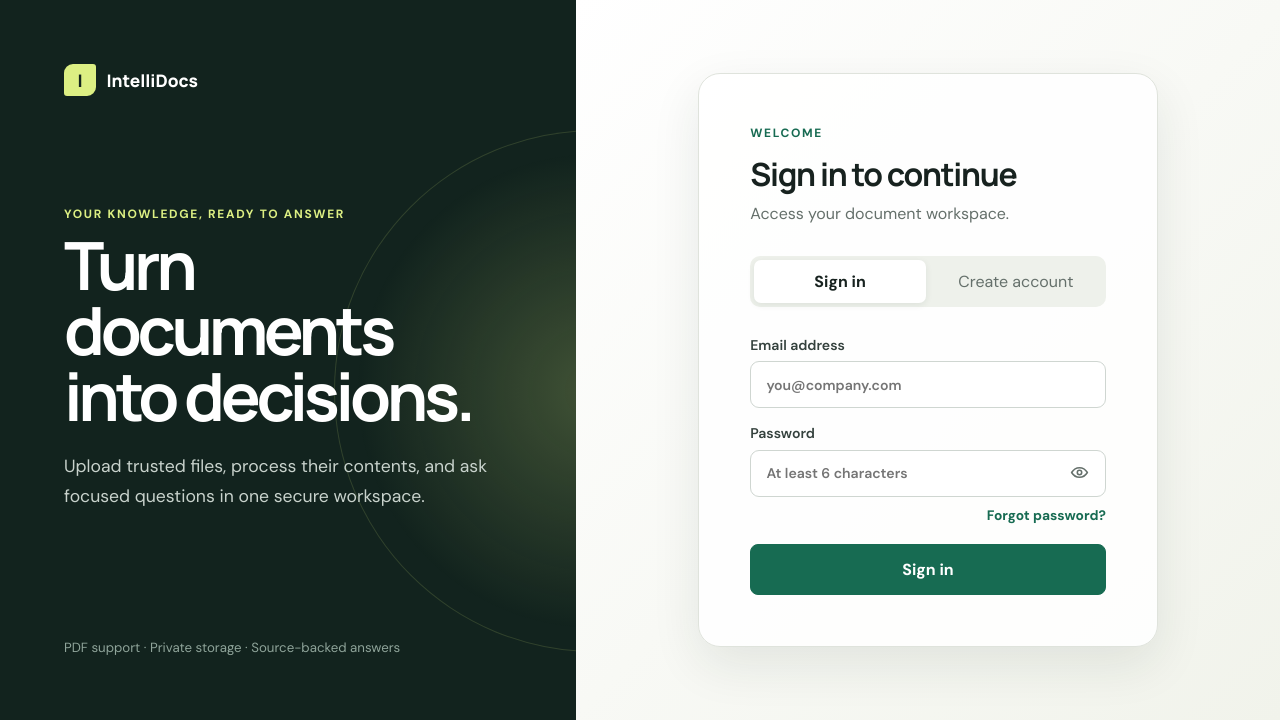
AuthPage › uses a privacy-safe message after sign-up
The image size is (1280, 720).
Click the button "Create account". click: click(1016, 282)
box: [930, 260, 1102, 303]
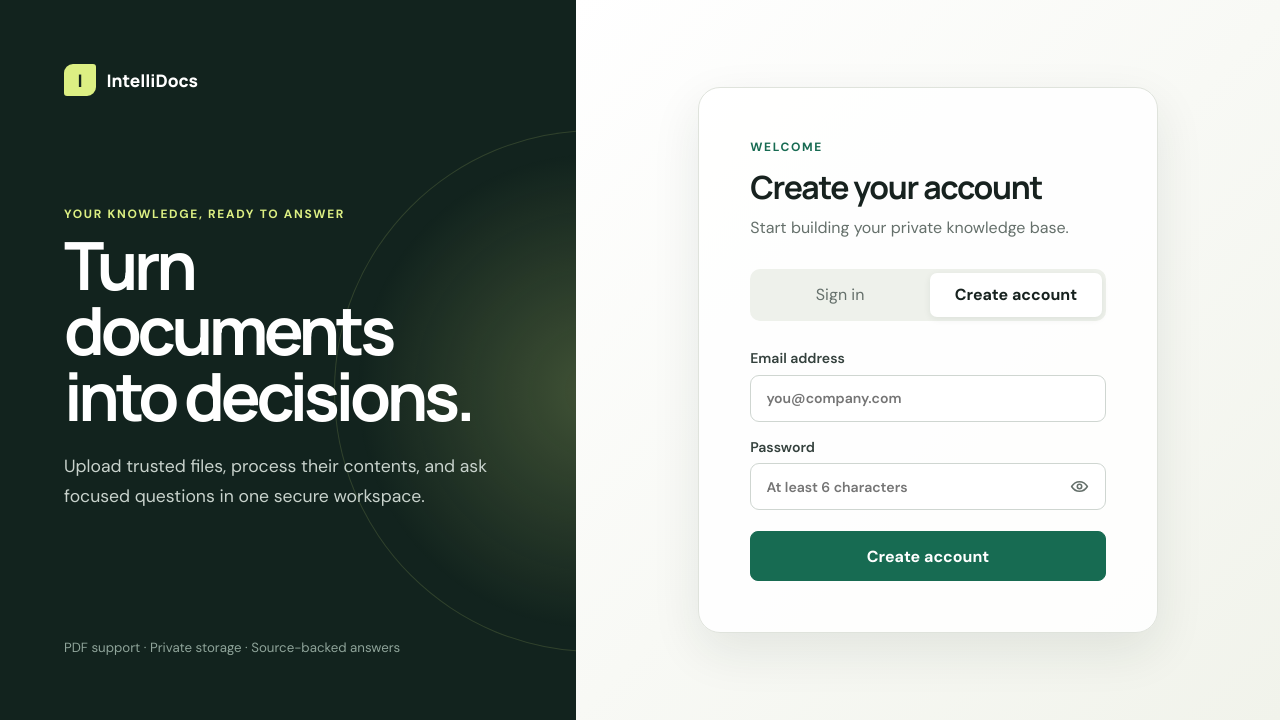
Type "person@example.com" into the field labelled "Email address". click: (928, 398)
box: [750, 375, 1106, 422]
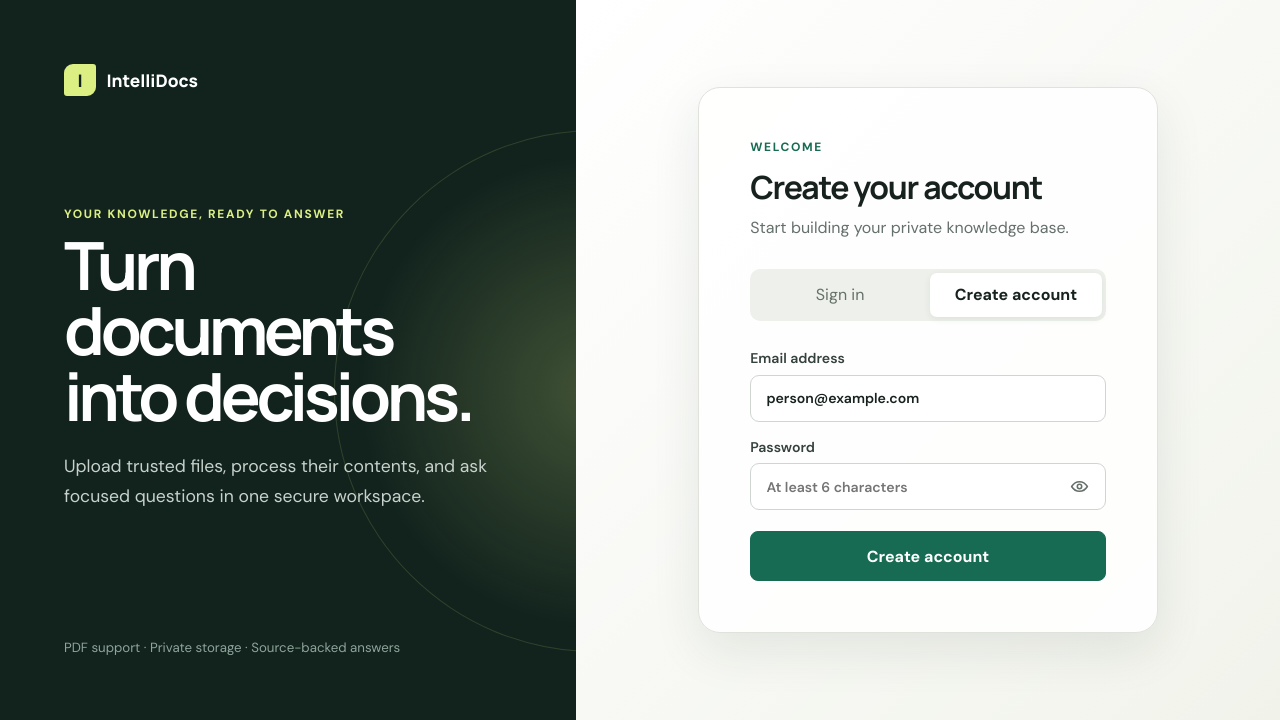
Type "password123" into the password field labelled "Password". click: (928, 487)
box: [750, 463, 1106, 510]
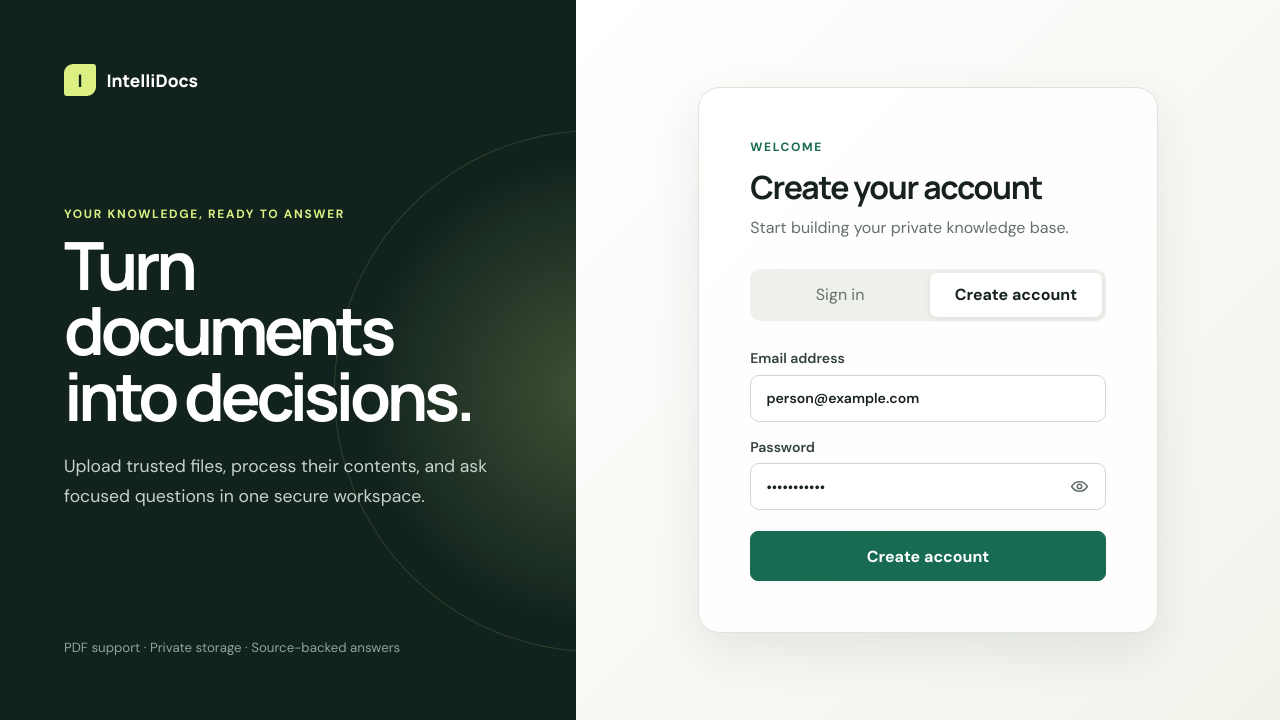
Click the button "Create account" below "Password". click: click(928, 556)
box: [750, 531, 1106, 581]
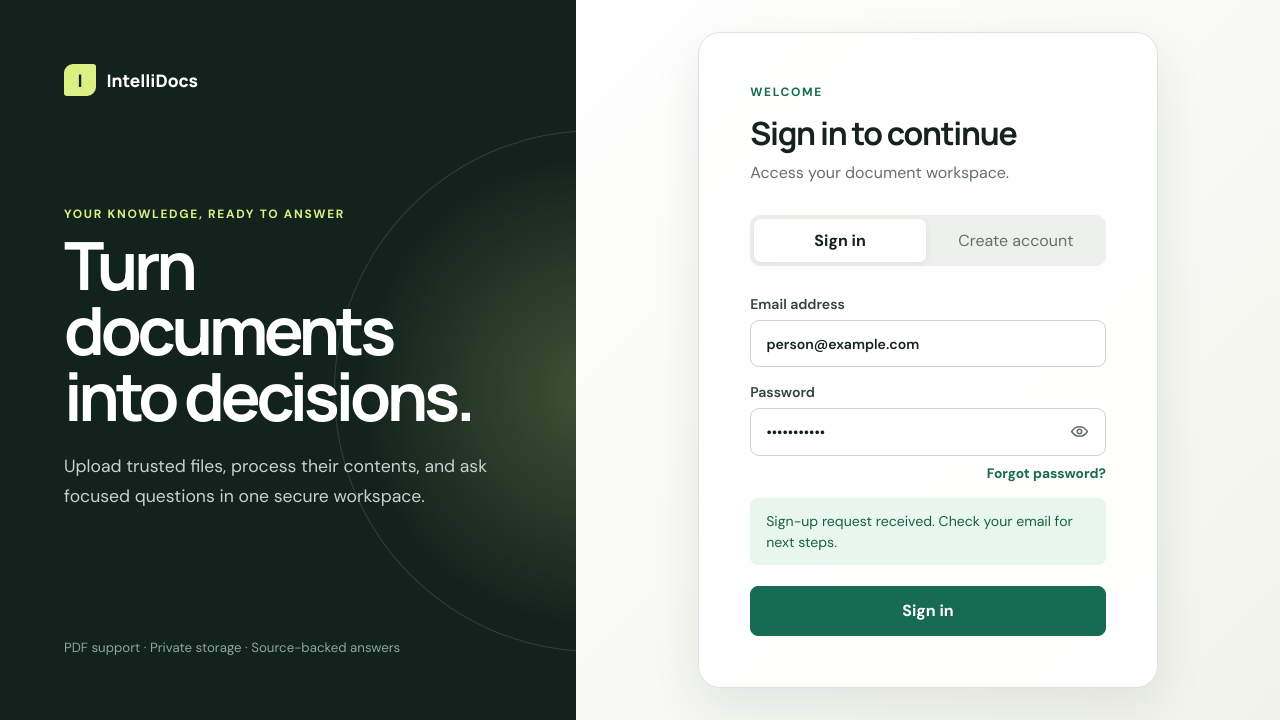
Result: the text "Sign-up request received. Check your email for next steps." is shown at [750, 498, 1106, 565]
